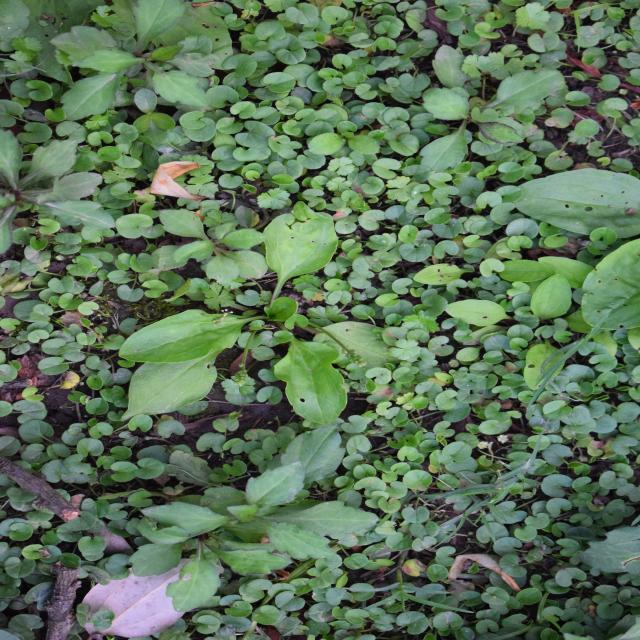plantain: (251, 234, 437, 514)
